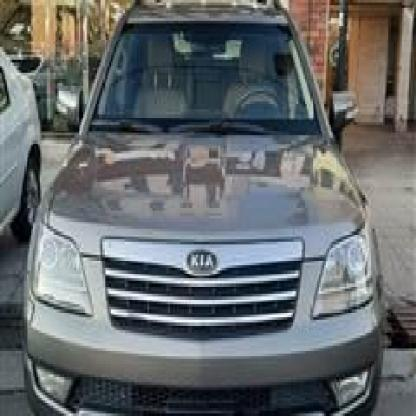Car: (22, 8, 385, 416)
